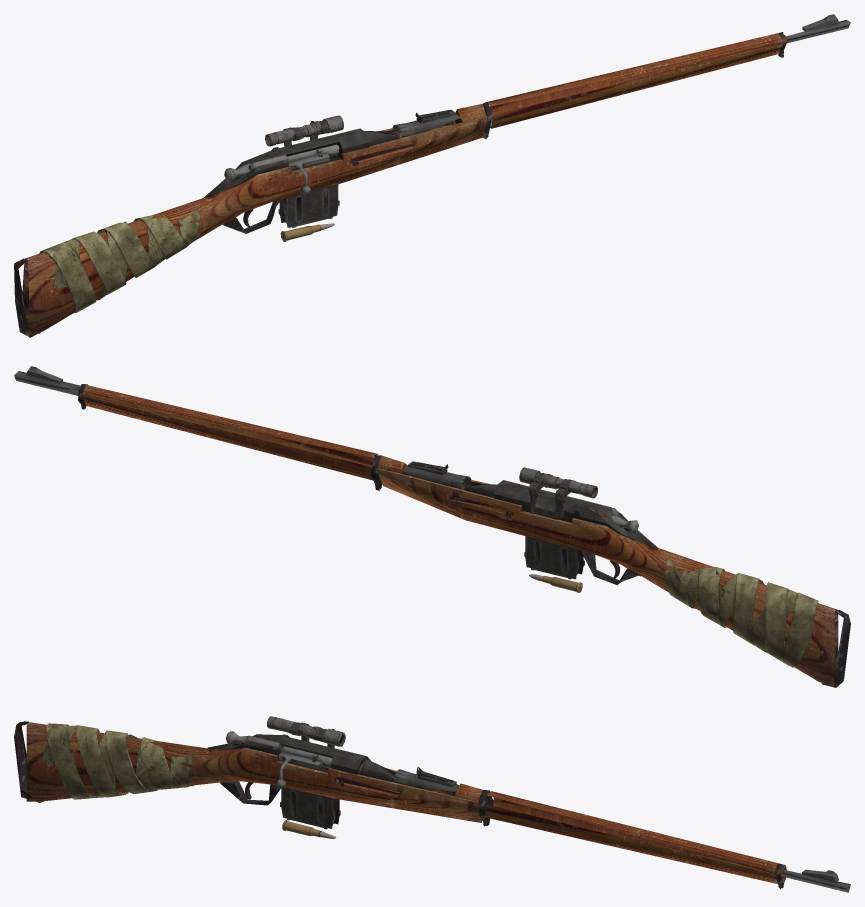
Rendered from bolt_action_rifle_tps.glb.
3 views of the same model, one above another, from view 1: azimuth 30°, elevation 25°; view 2: azimuth 150°, elevation 25°; view 3: azimuth 330°, elevation 25° (orthographic).
Parts seen in each view (by area): view 1: bolt_action_rifle_7_62, bolt_action_rifle_7_62_wrap, bolt_action_rifle_7_62_scope, bolt_action_rifle_7_62_bolt_a; view 2: bolt_action_rifle_7_62, bolt_action_rifle_7_62_wrap, bolt_action_rifle_7_62_scope; view 3: bolt_action_rifle_7_62, bolt_action_rifle_7_62_wrap, bolt_action_rifle_7_62_scope, bolt_action_rifle_7_62_bolt_a, bolt_action_rifle_7_62_bullet_54mm, bolt_action_rifle_7_62_bolt_b.
Part boxes in pixels (bbox=[...]): bolt_action_rifle_7_62: bbox=[14, 14, 850, 337]; bolt_action_rifle_7_62_wrap: bbox=[39, 208, 201, 312]; bolt_action_rifle_7_62_scope: bbox=[265, 115, 343, 146]; bolt_action_rifle_7_62_bolt_a: bbox=[287, 144, 339, 194]; bolt_action_rifle_7_62: bbox=[14, 366, 850, 687]; bolt_action_rifle_7_62_wrap: bbox=[665, 558, 818, 667]; bolt_action_rifle_7_62_scope: bbox=[519, 467, 597, 519]; bolt_action_rifle_7_62: bbox=[14, 721, 850, 892]; bolt_action_rifle_7_62_wrap: bbox=[42, 723, 193, 799]; bolt_action_rifle_7_62_scope: bbox=[267, 716, 345, 748]; bolt_action_rifle_7_62_bolt_a: bbox=[277, 746, 332, 788]; bolt_action_rifle_7_62_bullet_54mm: bbox=[282, 820, 336, 838]; bolt_action_rifle_7_62_bolt_b: bbox=[226, 731, 325, 768].
Size of the model in its own units: 1.23 by 0.2026 by 0.0662.
Materials: 3 (3 with a texture image).
